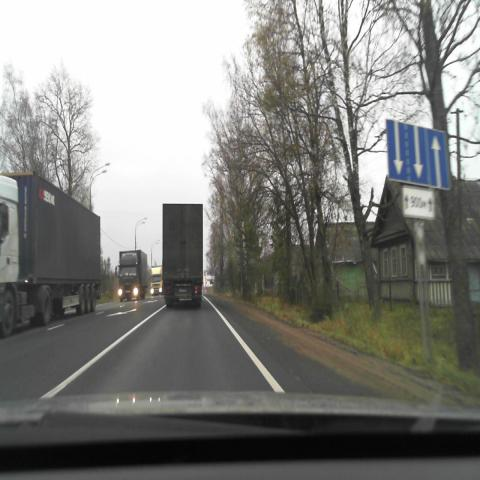5_15_7: (386, 120, 451, 191)
8_2_1: (403, 187, 435, 218)
